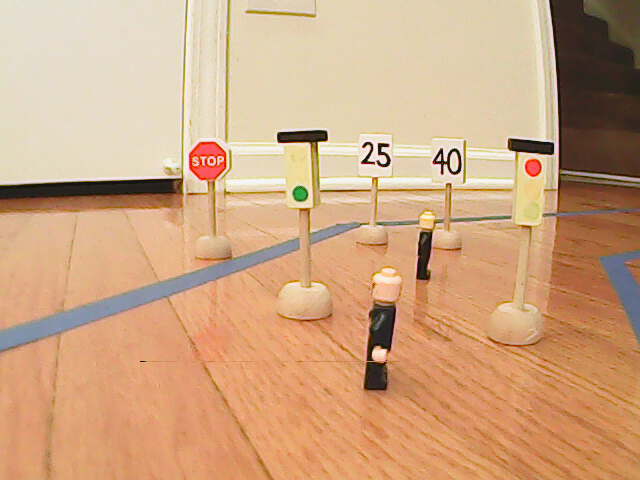Green Traffic Light: (275, 130, 330, 208)
Person: (362, 269, 404, 397), (413, 211, 438, 282)
Red Traffic Light: (509, 137, 550, 227)
Speed Limit 25: (356, 133, 393, 177)
Speed Limit 40: (429, 138, 466, 187)
Stop Sign: (187, 138, 233, 182)
